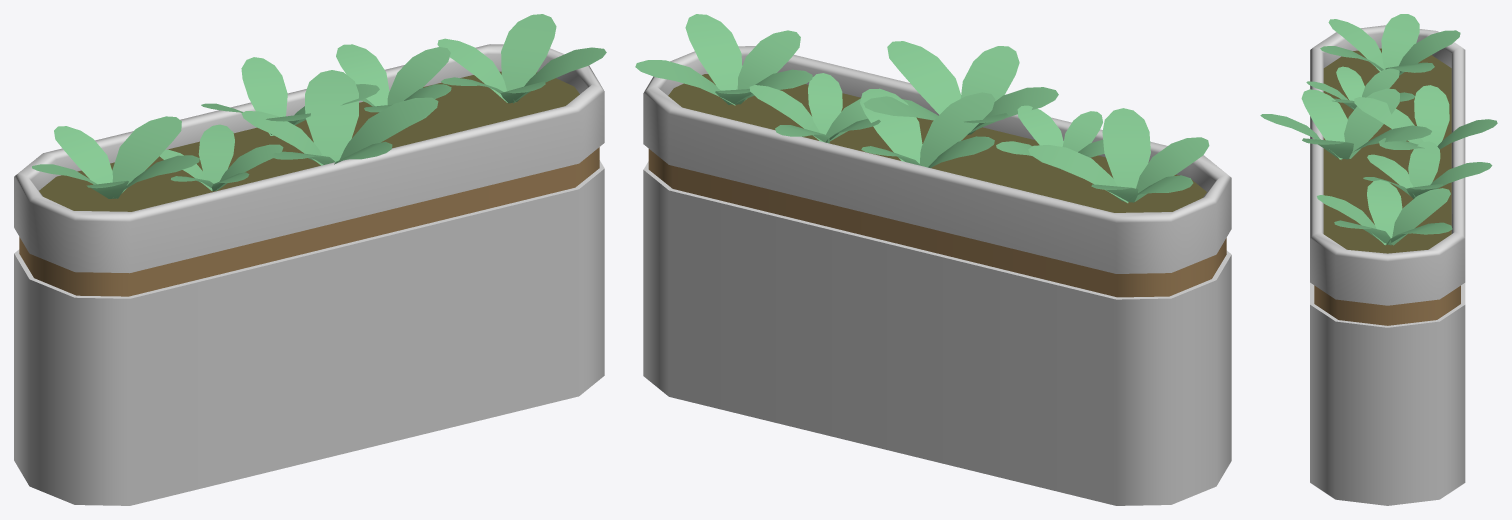
File: Vase11.fbx
3 views of the same model, side by side, from view 1: azimuth 30°, elevation 25°; view 2: azimuth 150°, elevation 25°; view 3: azimuth 270°, elevation 25° (orthographic). The views are drawn at different scales.
Parts seen in each view (by area): view 1: Vase11; view 2: Vase11; view 3: Vase11.
Boxes of the visible parts, left/top/right/bottom form: Vase11: left=14, top=14, right=606, bottom=505; Vase11: left=635, top=14, right=1231, bottom=505; Vase11: left=1260, top=14, right=1497, bottom=505.
Size of the model in its own units: 2.04 by 1.13 by 0.8689.
